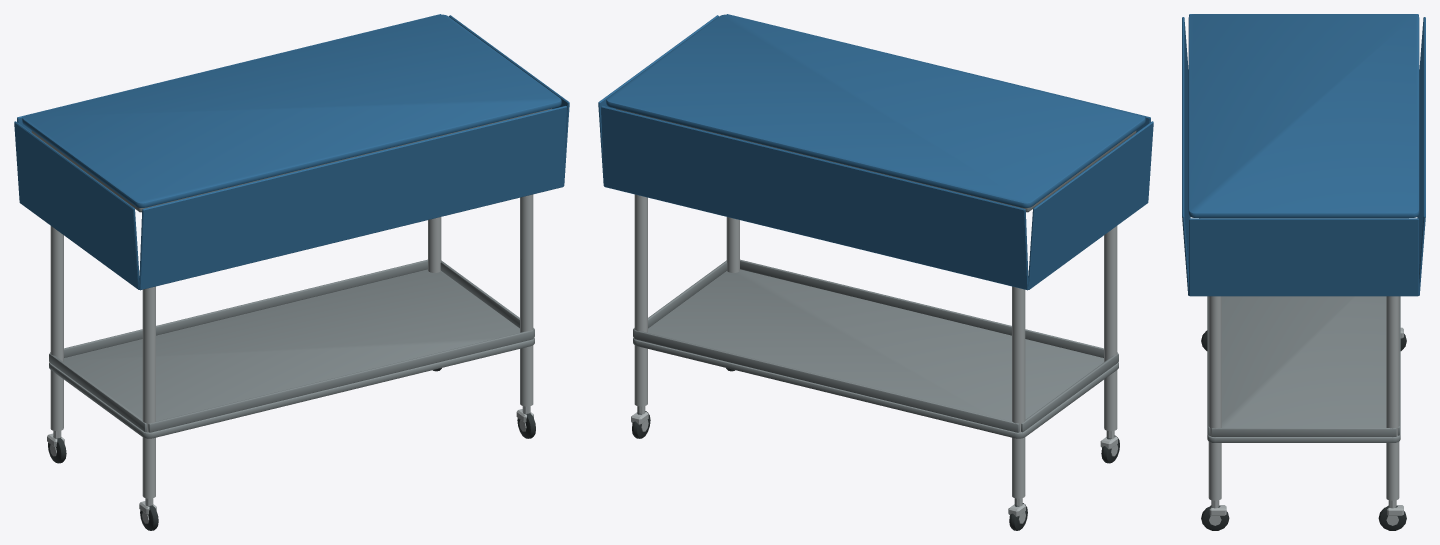
The model's file is sc-sterile-setup-table.glb.
3 views of the same model, side by side, from view 1: azimuth 30°, elevation 25°; view 2: azimuth 150°, elevation 25°; view 3: azimuth 270°, elevation 25° (orthographic). The views are drawn at different scales.
Parts seen in each view (by area): view 1: sc-sterile-setup-table; view 2: sc-sterile-setup-table; view 3: sc-sterile-setup-table.
Part boxes in pixels (x1,y1,x2,y2): sc-sterile-setup-table: [14, 14, 569, 530]; sc-sterile-setup-table: [598, 14, 1153, 530]; sc-sterile-setup-table: [1182, 14, 1425, 530].
Bounding box in the file's own units: 1.2 × 0.8991 × 0.6044.
